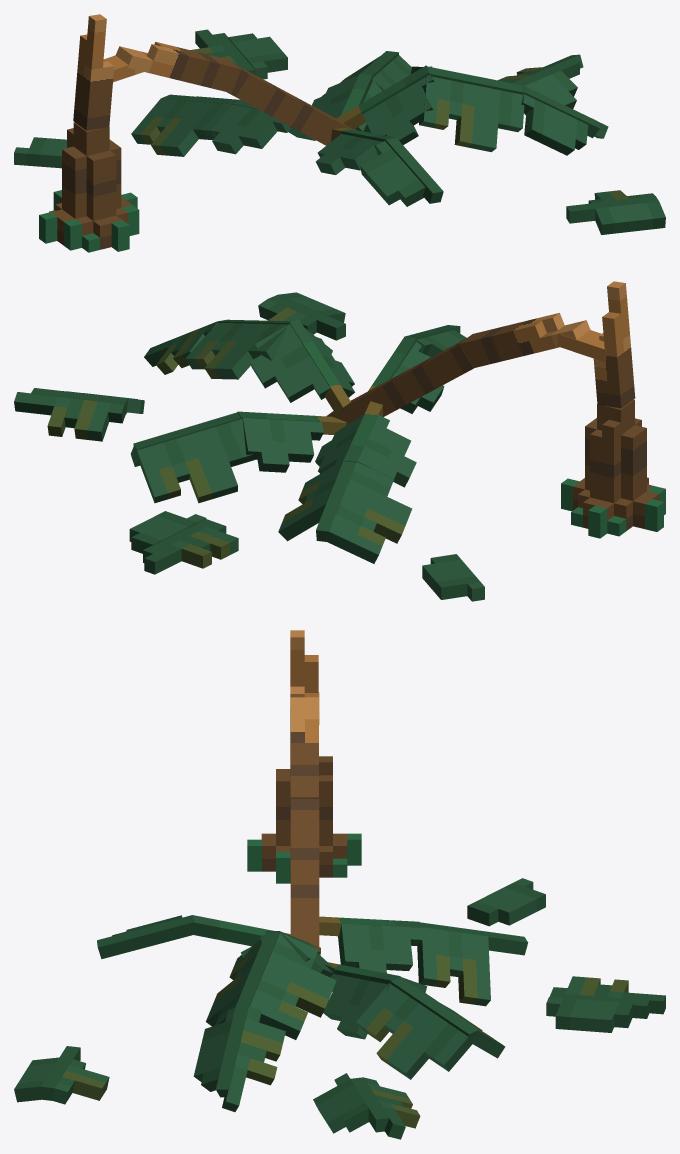
The model's file is item_3x3x5_downedpalmtree.gltf.
The picture shows the model from 3 angles, top to bottom: view 1: azimuth 30°, elevation 25°; view 2: azimuth 150°, elevation 25°; view 3: azimuth 270°, elevation 25°; orthographic projection. The views are drawn at different scales.
Visible parts, largest first — view 1: palmTree03-Local, n5$$(1)-Local, n2$$(2)-Local, Node$$(1)-Local, Node-Local, Node2-Local, n4$$(1)-Local, n1$$(3)-Local, n6$$(1)-Local, n6$$(3)-Local, n6$$(5)-Local, n4$$(2)-Local (+20 smaller); view 2: palmTree03-Local, n2-Local, n2$$(2)-Local, n2$$(1)-Local, Node2-Local, Node-Local, Node$$(1)-Local, n1-Local, y3$$(2)-Local, n1$$(1)-Local, y3-Local, n1$$(3)-Local (+20 smaller); view 3: n5-Local, palmTree03-Local, n2$$(1)-Local, n5$$(2)-Local, Node2-Local, n4$$(3)-Local, y3$$(1)-Local, Node-Local, n6-Local, n6$$(4)-Local, n4-Local, n6$$(2)-Local (+17 smaller).
Part boxes in pixels (bbox=[...]): palmTree03-Local: bbox=[39, 122, 139, 252]; n5$$(1)-Local: bbox=[419, 75, 524, 152]; n2$$(2)-Local: bbox=[131, 98, 232, 156]; Node$$(1)-Local: bbox=[73, 14, 114, 130]; Node-Local: bbox=[115, 42, 241, 93]; Node2-Local: bbox=[227, 64, 356, 145]; n4$$(1)-Local: bbox=[362, 70, 434, 144]; n1$$(3)-Local: bbox=[210, 104, 291, 154]; n6$$(1)-Local: bbox=[521, 94, 588, 155]; n6$$(3)-Local: bbox=[360, 141, 425, 206]; n6$$(5)-Local: bbox=[595, 201, 665, 234]; n4$$(2)-Local: bbox=[315, 134, 382, 174]; palmTree03-Local: bbox=[561, 399, 665, 538]; n2-Local: bbox=[136, 419, 254, 503]; n2$$(2)-Local: bbox=[324, 462, 412, 563]; n2$$(1)-Local: bbox=[185, 323, 288, 379]; Node2-Local: bbox=[326, 339, 473, 425]; Node-Local: bbox=[458, 313, 590, 367]; Node$$(1)-Local: bbox=[593, 281, 635, 408]; n1-Local: bbox=[242, 417, 323, 472]; y3$$(2)-Local: bbox=[14, 392, 125, 441]; n1$$(1)-Local: bbox=[250, 324, 329, 402]; y3-Local: bbox=[144, 522, 238, 574]; n1$$(3)-Local: bbox=[357, 415, 416, 487]; n5-Local: bbox=[356, 983, 472, 1079]; palmTree03-Local: bbox=[247, 755, 361, 883]; n2$$(1)-Local: bbox=[250, 933, 336, 1039]; n5$$(2)-Local: bbox=[417, 927, 490, 1006]; Node2-Local: bbox=[290, 797, 319, 946]; n4$$(3)-Local: bbox=[338, 923, 423, 973]; y3$$(1)-Local: bbox=[222, 1006, 285, 1111]; Node-Local: bbox=[290, 697, 318, 798]; n6-Local: bbox=[546, 997, 633, 1032]; n6$$(4)-Local: bbox=[467, 878, 545, 926]; n4-Local: bbox=[323, 974, 390, 1039]; n6$$(2)-Local: bbox=[313, 1073, 368, 1133].
Size of the model in its own units: 50.26 by 19.67 by 45.71.
Materials: 40 (40 with a texture image).
